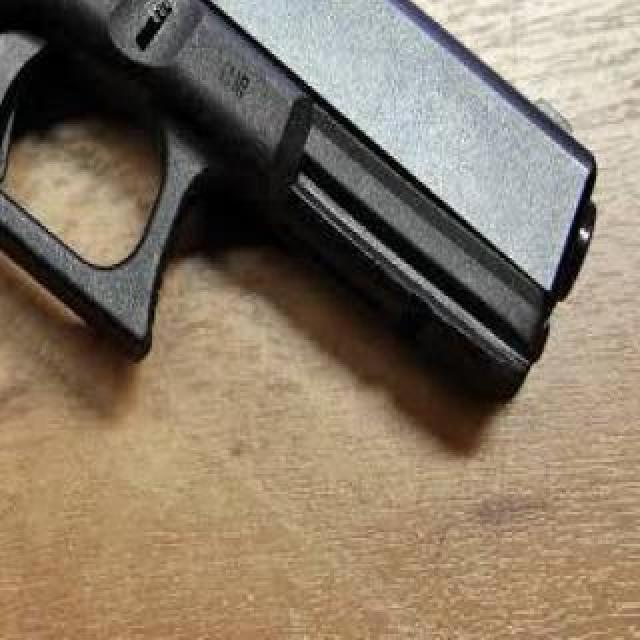Guns: (0, 0, 626, 546)
